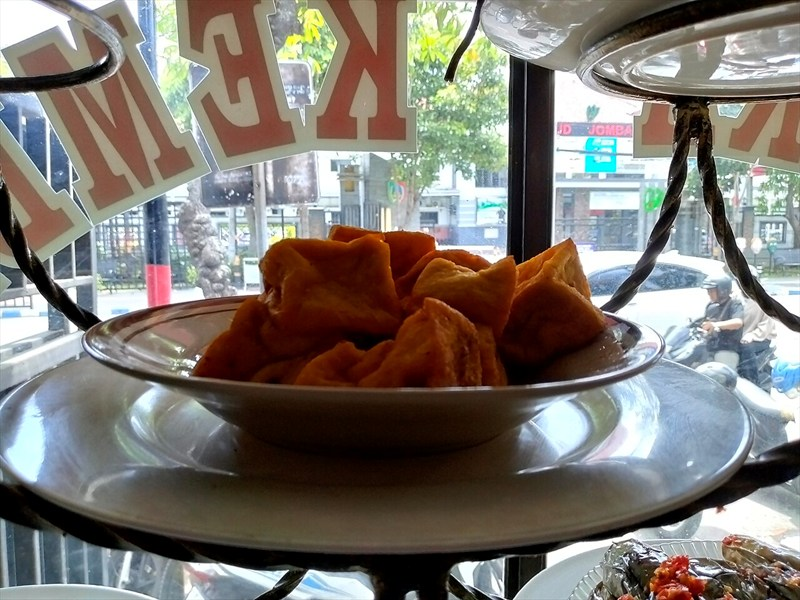Tahu Goreng: (42, 59, 758, 586)
